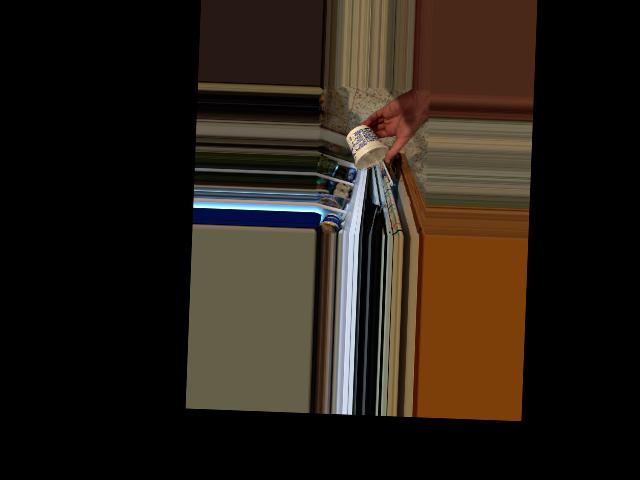cotage: (347, 129, 386, 170)
